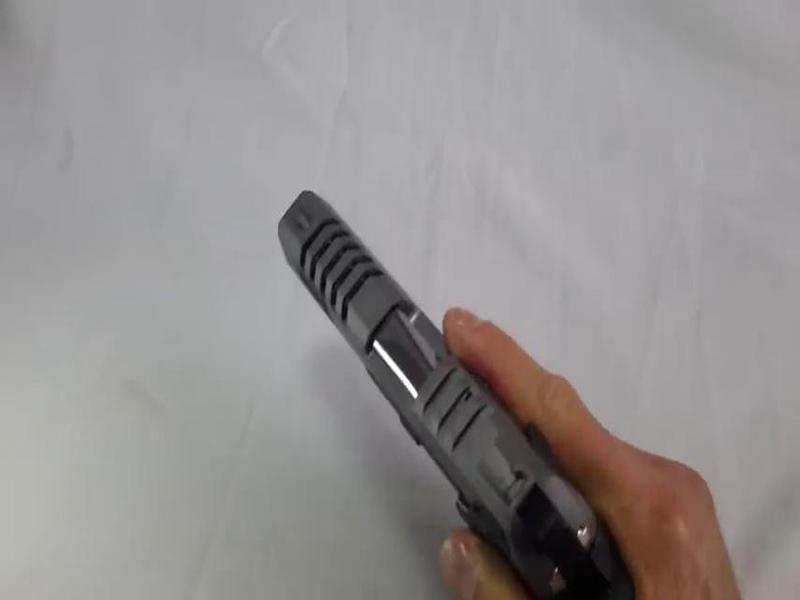Pistola: (264, 191, 637, 600)
